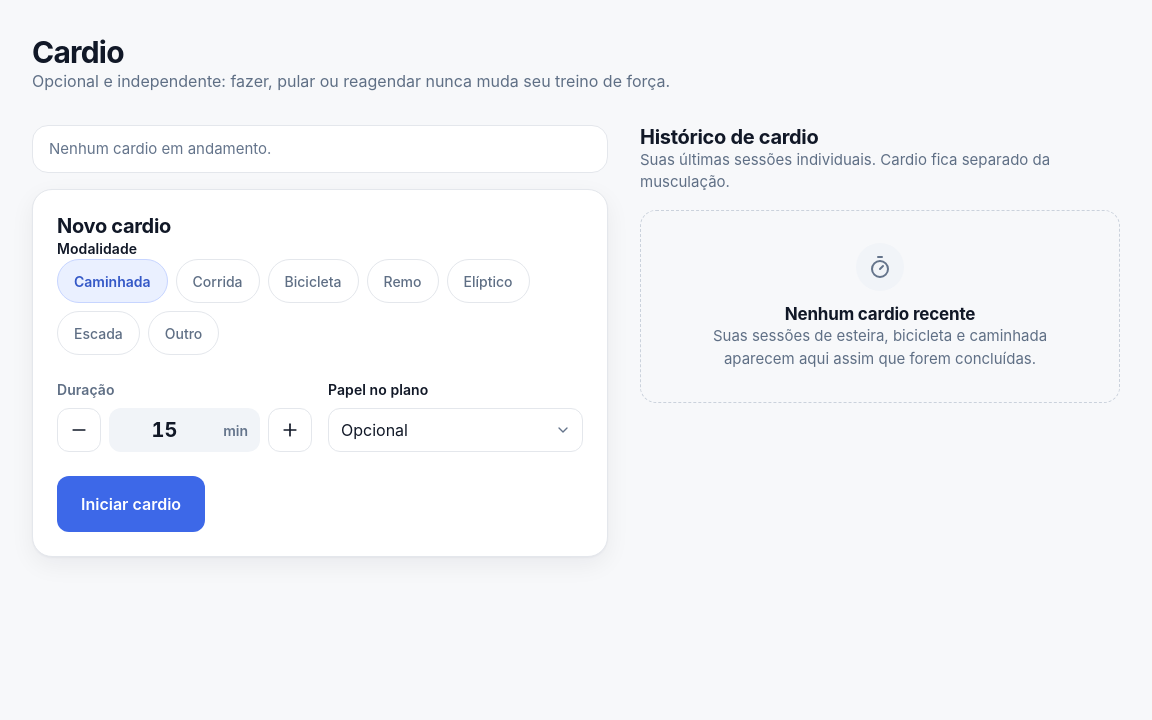
Test: CardioPageClient › starts and finishes an independent cardio session
The width and height of the screenshot is (1152, 720).
Click the button "Iniciar cardio": (131, 504) [57,476,205,532]
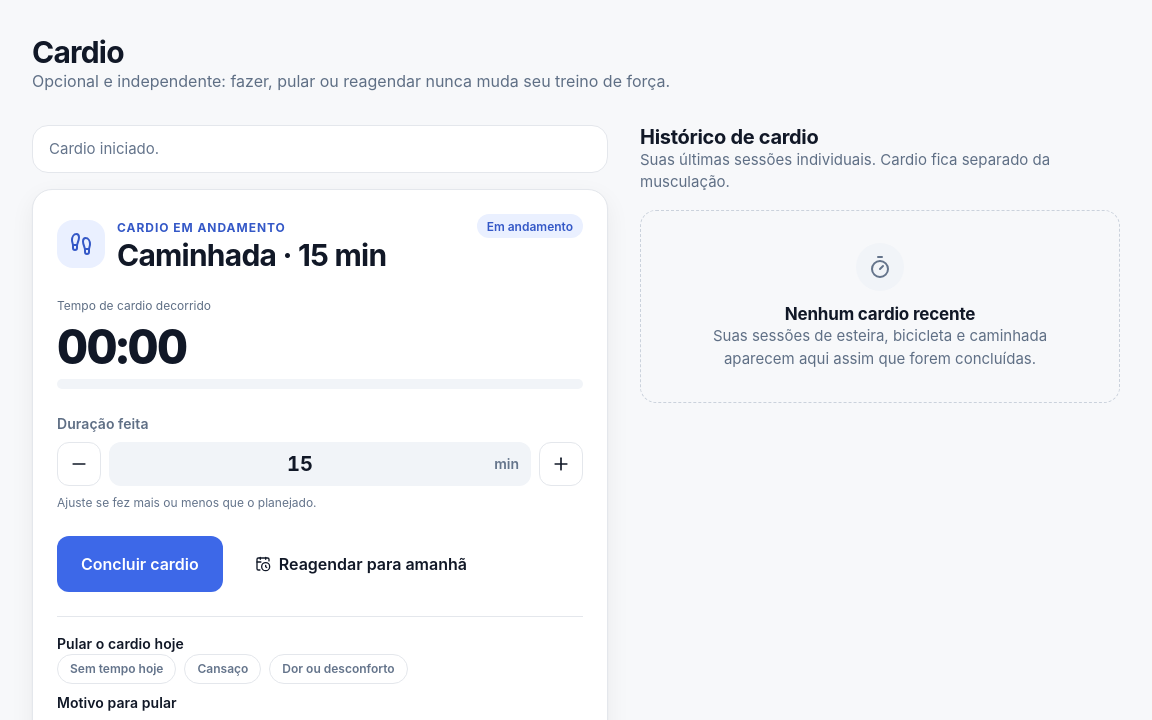
Check: the button "Concluir cardio" is shown
Click the button "Concluir cardio": (140, 564) [57,536,223,592]
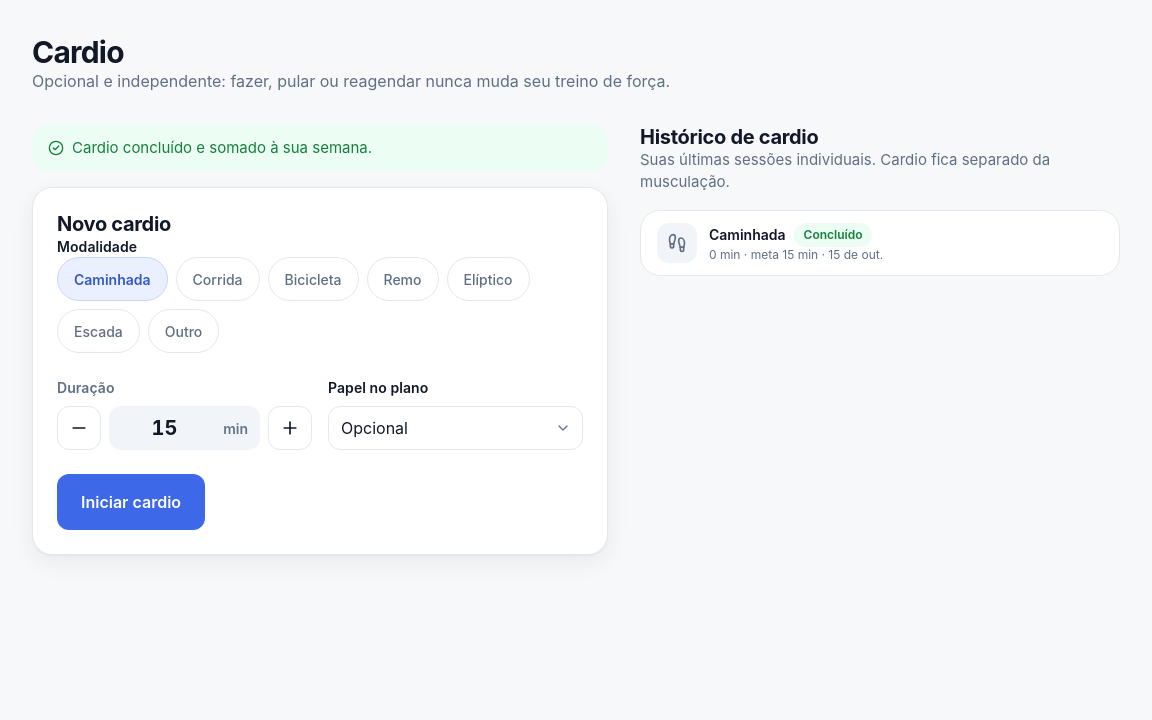
Check: the text "Cardio concluído e somado à sua semana." is shown, box [32,125,608,172]
